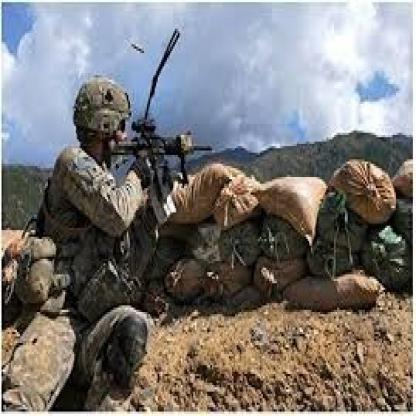Gun: (99, 115, 210, 188)
